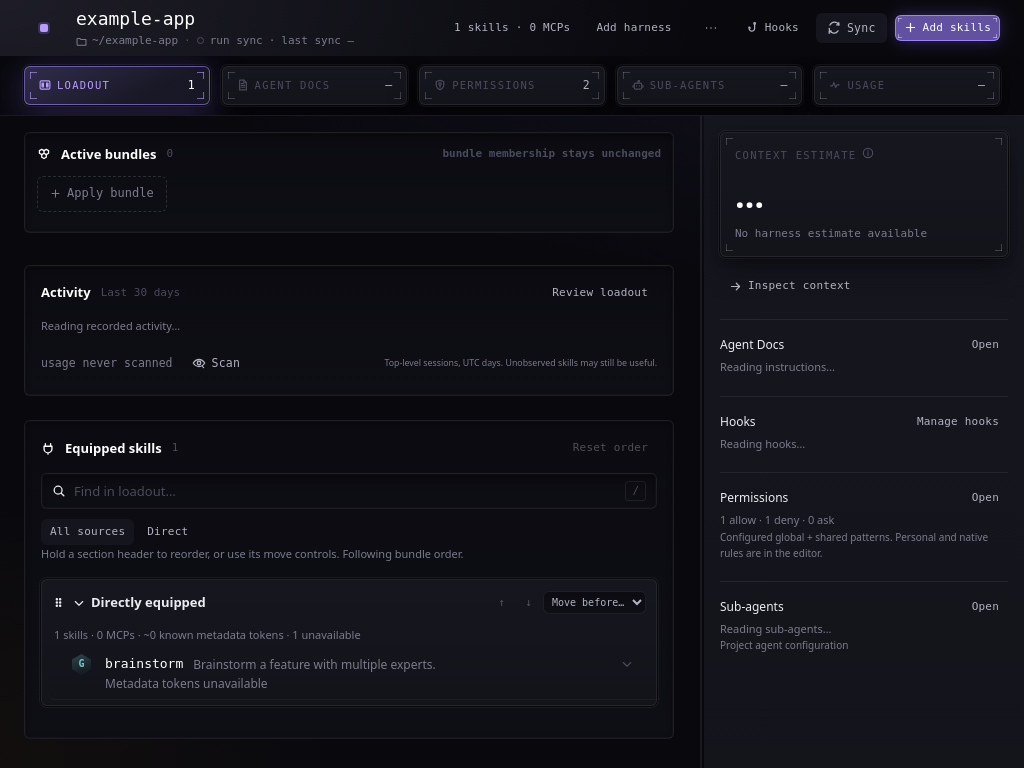
it: AvailableSkillsPanel row anatomy (B1) › the chevron is controlled by expandedAvailable and the detail drops SKILL/MCP/scope words
The image size is (1024, 768).
Click the button "Add skills" at (947, 28), box [895,15,1000,41]
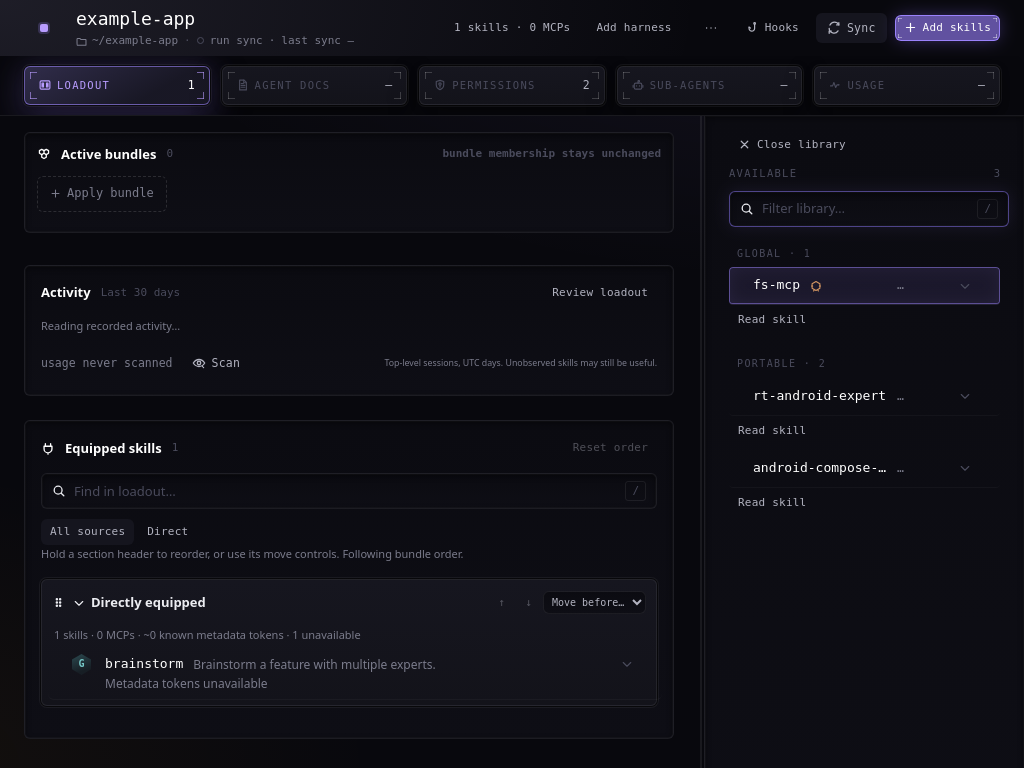
Click the button named "Show rt-android-expert summary" at (965, 396), box [954,385,976,407]
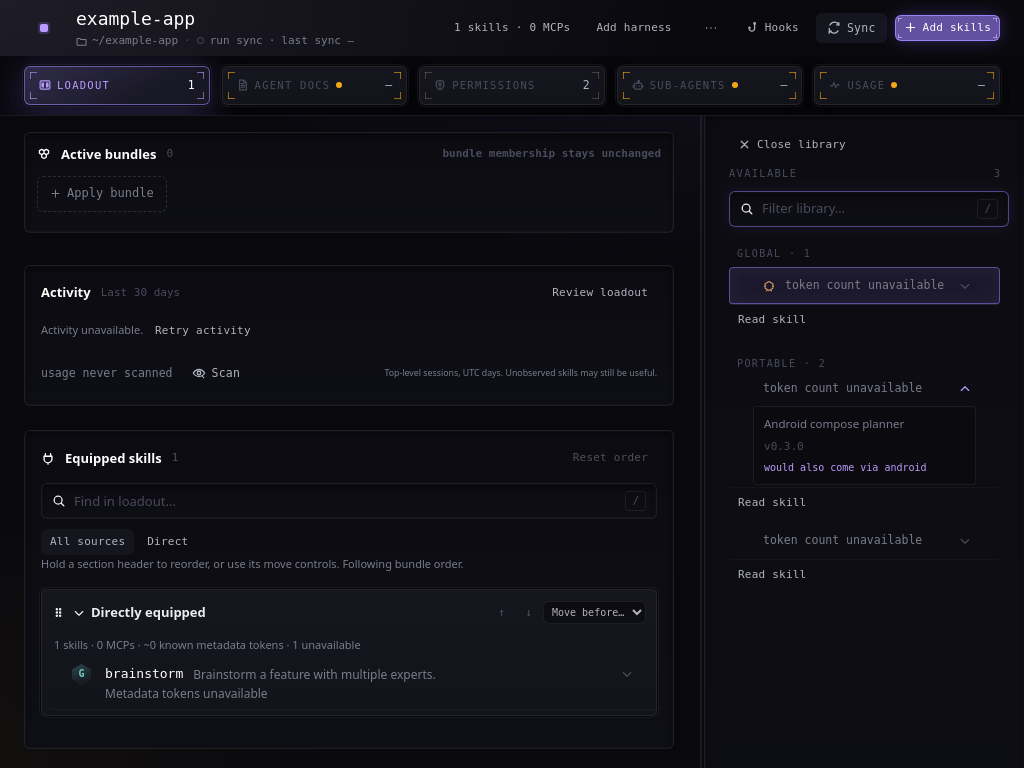
Expected: the text "Android compose planner" is shown, [764,416,904,431]
